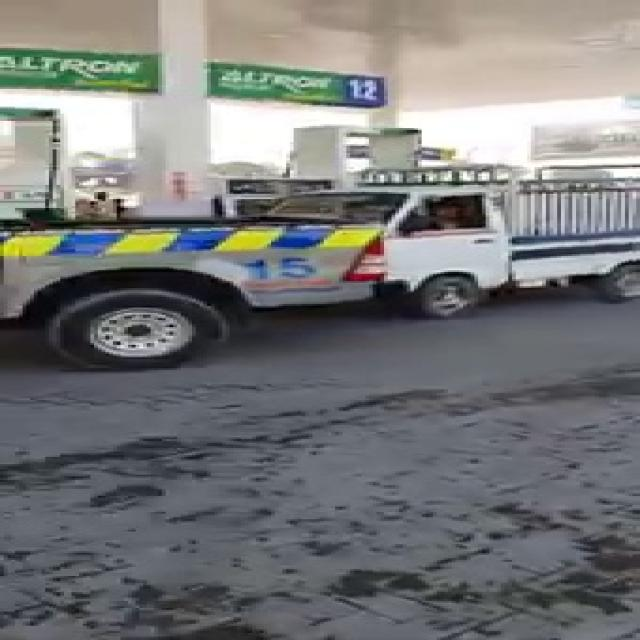police: (0, 208, 410, 354)
